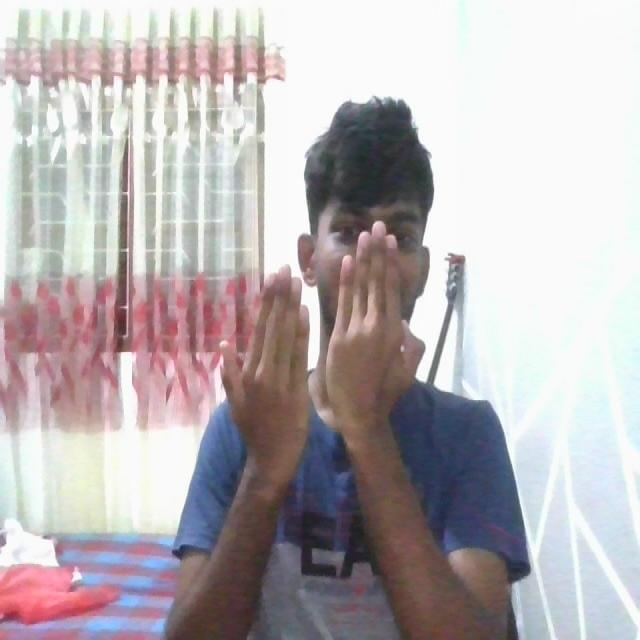ThankYou: (171, 224, 533, 634)
